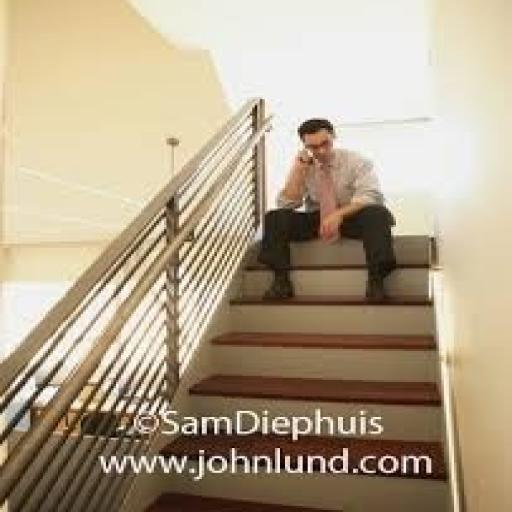sitting: (252, 116, 399, 304)
